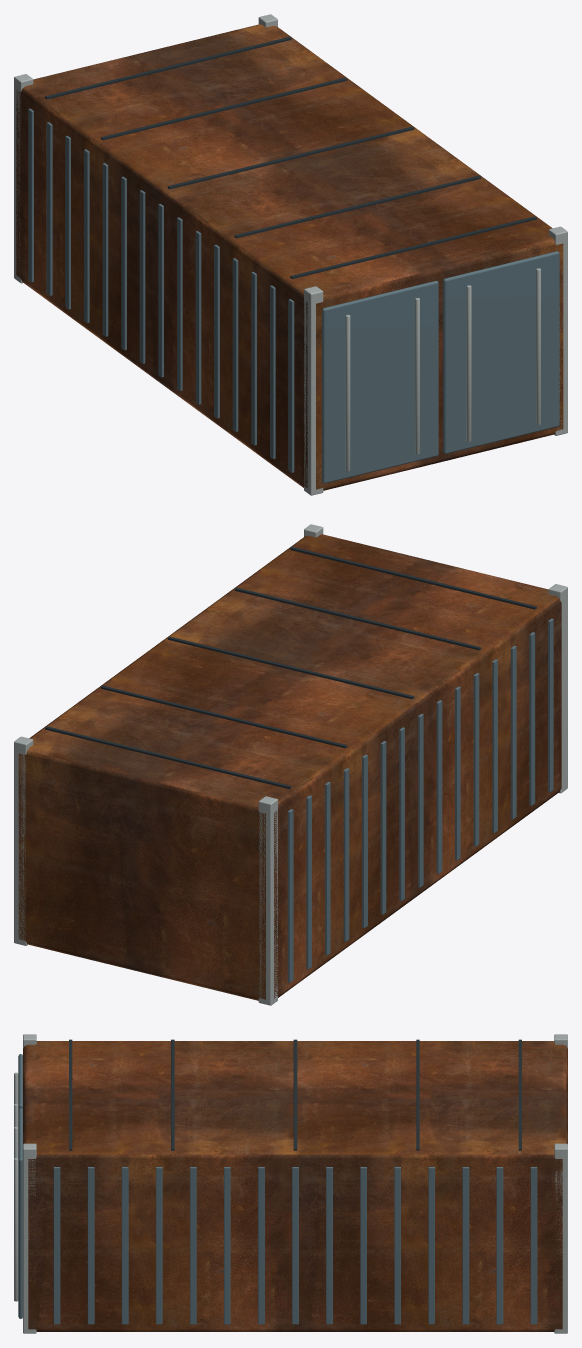
File: industrial-container.glb
The picture shows the model from 3 angles, top to bottom: view 1: azimuth 30°, elevation 25°; view 2: azimuth 150°, elevation 25°; view 3: azimuth 270°, elevation 25°; orthographic projection. The views are drawn at different scales.
Parts seen in each view (by area): view 1: industrial-container; view 2: industrial-container; view 3: industrial-container.
Part boxes in pixels (x1,y1,x2,y2): industrial-container: (14,14,567,495); industrial-container: (14,524,567,1005); industrial-container: (14,1034,567,1333).
Bounding box in the file's own units: 2.04 × 1.5 × 4.07.
Materials: 4 (1 with a texture image).
